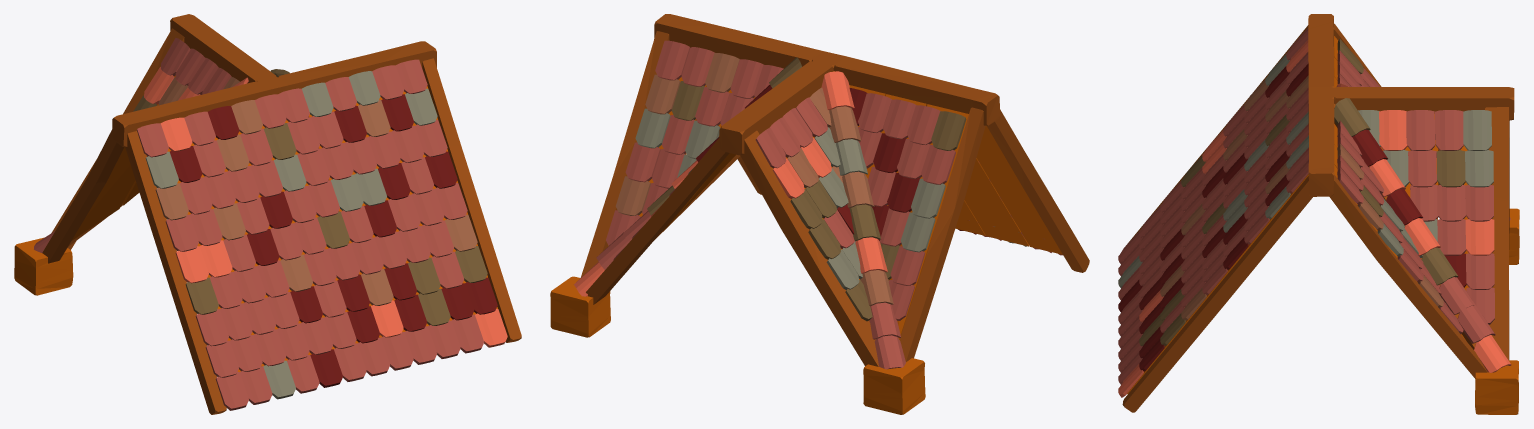
File: NormalRoof_T_Junction.fbx
The picture shows the model from 3 angles, left to right: view 1: azimuth 30°, elevation 25°; view 2: azimuth 150°, elevation 25°; view 3: azimuth 270°, elevation 25°; orthographic projection. The views are drawn at different scales.
Visible parts, largest first — view 1: NormalRoof_T_Junction_LOD0; view 2: NormalRoof_T_Junction_LOD0; view 3: NormalRoof_T_Junction_LOD0.
Part boxes in pixels (x1=…): NormalRoof_T_Junction_LOD0: x1=14, y1=14, x2=521, y2=414; NormalRoof_T_Junction_LOD0: x1=550, y1=14, x2=1089, y2=414; NormalRoof_T_Junction_LOD0: x1=1118, y1=14, x2=1519, y2=414.
Size of what is drawn, in the model's own units: 2159 by 1449 by 2157.
